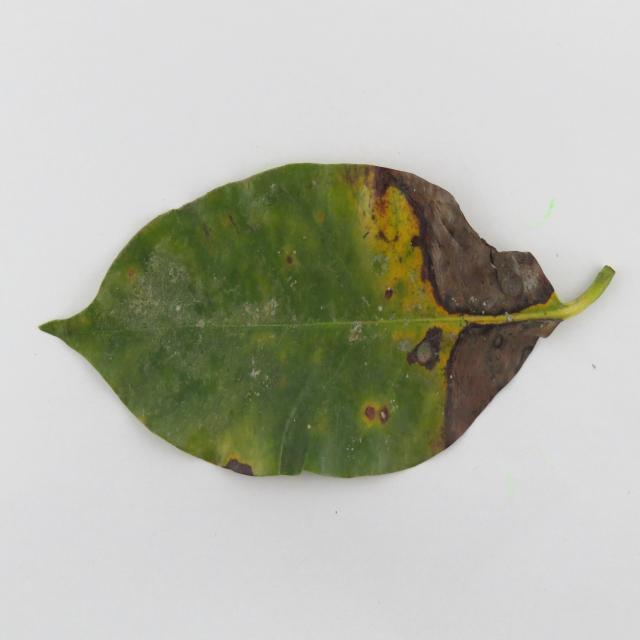DeficienciaNutricional-Potasio: (41, 163, 614, 477)
